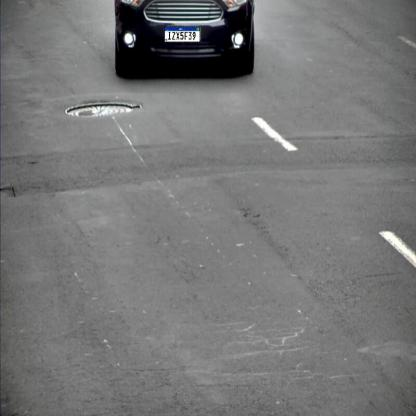PlacaM: (164, 26, 200, 42)
